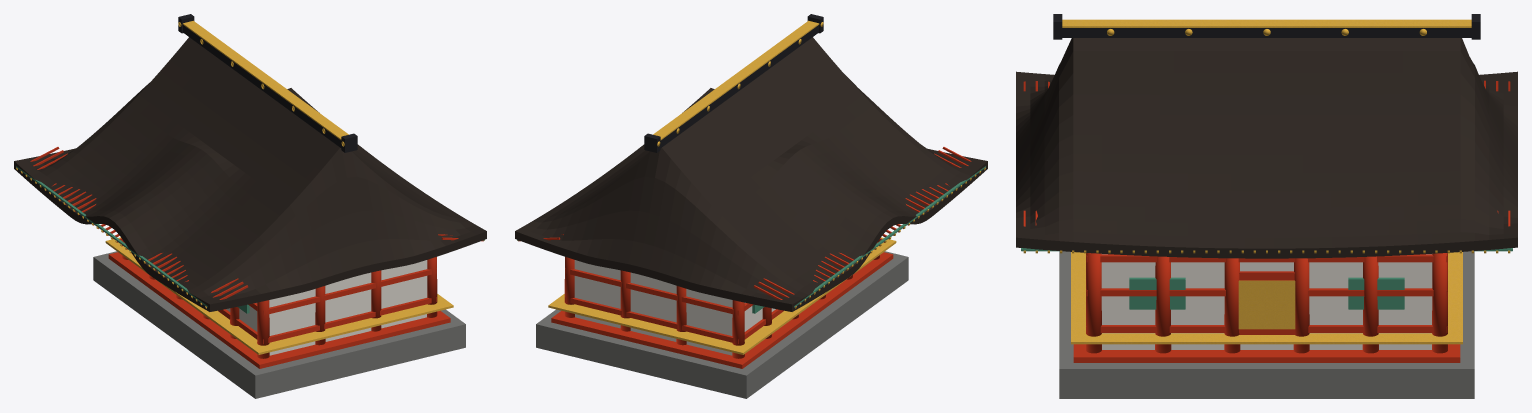
Rendered from Asset_08_Honden_1499_Sanctuary.fbx.
3 views of the same model, side by side, from view 1: azimuth 30°, elevation 25°; view 2: azimuth 150°, elevation 25°; view 3: azimuth 270°, elevation 25° (orthographic). The views are drawn at different scales.
Parts seen in each view (by area): view 1: Z03_Honden_Roof, Z03_Honden_Podium, Z03_Honden_Core_Shikku, Z03_Honden_Verandah, Z03_Honden_Verandah_Gold, Z03_Honden_Roof_Ridge_Gold_Cap, Z03_Honden_Beam_2.20, Z03_Honden_Roof_Ridge_Beam, Z03_Honden_Beam_3.60, Z03_Honden_Roof_Copper_Gutter_-7.9, Z03_Honden_Col_29.7_-6.0, Z03_Honden_Col_35.4_-6.0 (+2 smaller); view 2: Z03_Honden_Roof, Z03_Honden_Podium, Z03_Honden_Core_Shikku, Z03_Honden_Verandah, Z03_Honden_Verandah_Gold, Z03_Honden_Roof_Ridge_Gold_Cap, Z03_Honden_Beam_2.20, Z03_Honden_Roof_Ridge_Beam, Z03_Honden_Beam_3.60, Z03_Honden_Roof_Copper_Gutter_-7.9, Z03_Honden_Col_29.7_6.0, Z03_Honden_Col_35.4_6.0 (+2 smaller); view 3: Z03_Honden_Roof, Z03_Honden_Podium, Z03_Honden_Core_Shikku, Z03_Honden_Verandah_Gold, Z03_Honden_Verandah, Z03_Honden_Roof_Ridge_Beam, Z03_Honden_Roof_Ridge_Gold_Cap, Z03_Honden_GoldDoorFittings, Z03_Honden_Beam_2.20, Z03_Honden_Beam_3.60, Z03_Honden_Beam_4.90, Z03_Honden_Col_38.3_-6.0 (+8 smaller).
Boxes of the visible parts, bbox=[...] form: Z03_Honden_Roof: bbox=[14, 37, 486, 311]; Z03_Honden_Podium: bbox=[93, 251, 465, 398]; Z03_Honden_Core_Shikku: bbox=[226, 260, 427, 355]; Z03_Honden_Verandah: bbox=[108, 252, 450, 368]; Z03_Honden_Verandah_Gold: bbox=[105, 237, 453, 354]; Z03_Honden_Roof_Ridge_Gold_Cap: bbox=[182, 20, 348, 140]; Z03_Honden_Beam_2.20: bbox=[218, 297, 436, 344]; Z03_Honden_Roof_Ridge_Beam: bbox=[183, 25, 341, 147]; Z03_Honden_Beam_3.60: bbox=[248, 268, 436, 315]; Z03_Honden_Roof_Copper_Gutter_-7.9: bbox=[16, 166, 207, 307]; Z03_Honden_Col_29.7_-6.0: bbox=[257, 300, 269, 358]; Z03_Honden_Col_35.4_-6.0: bbox=[371, 270, 381, 331]; Z03_Honden_Roof: bbox=[515, 37, 987, 311]; Z03_Honden_Podium: bbox=[536, 251, 908, 398]; Z03_Honden_Core_Shikku: bbox=[574, 260, 775, 355]; Z03_Honden_Verandah: bbox=[551, 252, 893, 368]; Z03_Honden_Verandah_Gold: bbox=[548, 237, 896, 354]; Z03_Honden_Roof_Ridge_Gold_Cap: bbox=[653, 20, 819, 140]; Z03_Honden_Beam_2.20: bbox=[565, 297, 783, 344]; Z03_Honden_Roof_Ridge_Beam: bbox=[660, 25, 818, 147]; Z03_Honden_Beam_3.60: bbox=[565, 268, 753, 315]; Z03_Honden_Roof_Copper_Gutter_-7.9: bbox=[794, 166, 985, 307]; Z03_Honden_Col_29.7_6.0: bbox=[732, 300, 744, 358]; Z03_Honden_Col_35.4_6.0: bbox=[620, 270, 630, 331]; Z03_Honden_Roof: bbox=[1016, 38, 1517, 258]; Z03_Honden_Podium: bbox=[1059, 251, 1474, 398]; Z03_Honden_Core_Shikku: bbox=[1101, 254, 1432, 349]; Z03_Honden_Verandah_Gold: bbox=[1071, 252, 1462, 344]; Z03_Honden_Verandah: bbox=[1073, 344, 1460, 362]; Z03_Honden_Roof_Ridge_Beam: bbox=[1062, 28, 1471, 37]; Z03_Honden_Roof_Ridge_Gold_Cap: bbox=[1062, 19, 1471, 27]; Z03_Honden_GoldDoorFittings: bbox=[1238, 280, 1295, 329]; Z03_Honden_Beam_2.20: bbox=[1086, 325, 1447, 332]; Z03_Honden_Beam_3.60: bbox=[1086, 288, 1447, 296]; Z03_Honden_Beam_4.90: bbox=[1086, 254, 1447, 262]; Z03_Honden_Col_38.3_-6.0: bbox=[1086, 253, 1101, 353].
Size of the model in its own units: 1432 by 1178 by 1740.
Materials: 7 (1 with a texture image).
